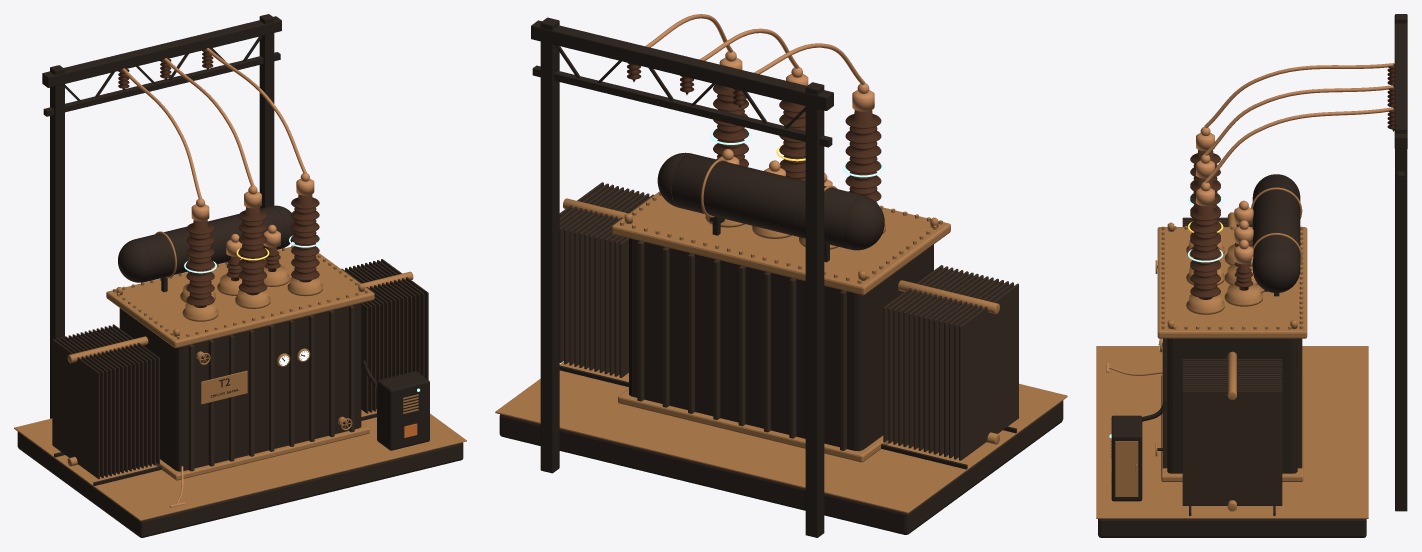
3 views of the same model, side by side, from view 1: azimuth 30°, elevation 25°; view 2: azimuth 150°, elevation 25°; view 3: azimuth 270°, elevation 25° (orthographic). The views are drawn at different scales.
Parts seen in each view (by area): view 1: RadiatorFins, Tank, PlinthTrim, Lid, Plinth, Ribs, GantryPost_-3.4, GantryBeamTop, Cabinet, Conservator, GantryPost_3.4, BushingC_Porcelain (+11 smaller); view 2: RadiatorFins, Tank, PlinthTrim, Lid, Plinth, Ribs, Conservator, GantryPost_-3.4, GantryPost_3.4, GantryBeamTop, GantryBeamLow, BushingA_Porcelain (+9 smaller); view 3: PlinthTrim, RadiatorFins, Lid, Tank, Plinth, GantryPost_3.4, Conservator, BushingC_Porcelain, ConsEnd_1, GantryBeamTop, Cabinet, Ribs (+12 smaller).
Part boxes in pixels (x1,y1,x2,y2): RadiatorFins: (52,259,428,479); Tank: (119,303,361,471); PlinthTrim: (14,409,466,520); Lid: (106,247,374,348); Plinth: (17,431,463,537); Ribs: (188,305,354,471); GantryPost_-3.4: (50,65,64,418); GantryBeamTop: (42,16,281,87); Cabinet: (377,371,429,450); Conservator: (135,206,286,281); GantryPost_3.4: (259,14,274,208); BushingC_Porcelain: (291,194,319,282); RadiatorFins: (559,182,1018,460); Tank: (629,238,933,451); PlinthTrim: (495,361,1067,513); Lid: (612,191,950,295); Plinth: (499,400,1063,534); Ribs: (637,241,846,450); Conservator: (672,153,862,248); GantryPost_-3.4: (805,82,824,537); GantryPost_3.4: (540,17,559,473); GantryBeamTop: (531,20,833,110); GantryBeamLow: (532,65,832,147); BushingA_Porcelain: (845,110,881,202); PlinthTrim: (1096,346,1368,518); RadiatorFins: (1182,217,1282,505); Lid: (1157,227,1307,338); Tank: (1167,338,1297,473); Plinth: (1098,519,1366,537); GantryPost_3.4: (1395,124,1407,511); Conservator: (1252,176,1300,267); BushingC_Porcelain: (1190,205,1220,299); ConsEnd_1: (1252,247,1300,292); GantryBeamTop: (1394,15,1407,148); Cabinet: (1111,415,1142,501); Ribs: (1162,338,1302,468).
Bounding box in the file's own units: 11.1 × 11 × 8.12.
